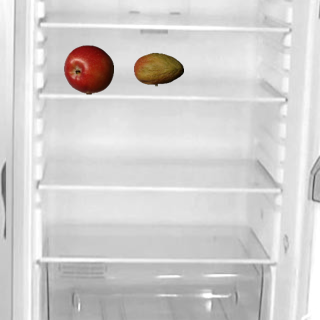Apple Braeburn: (63, 44, 113, 94)
Papaya: (133, 44, 183, 94)
